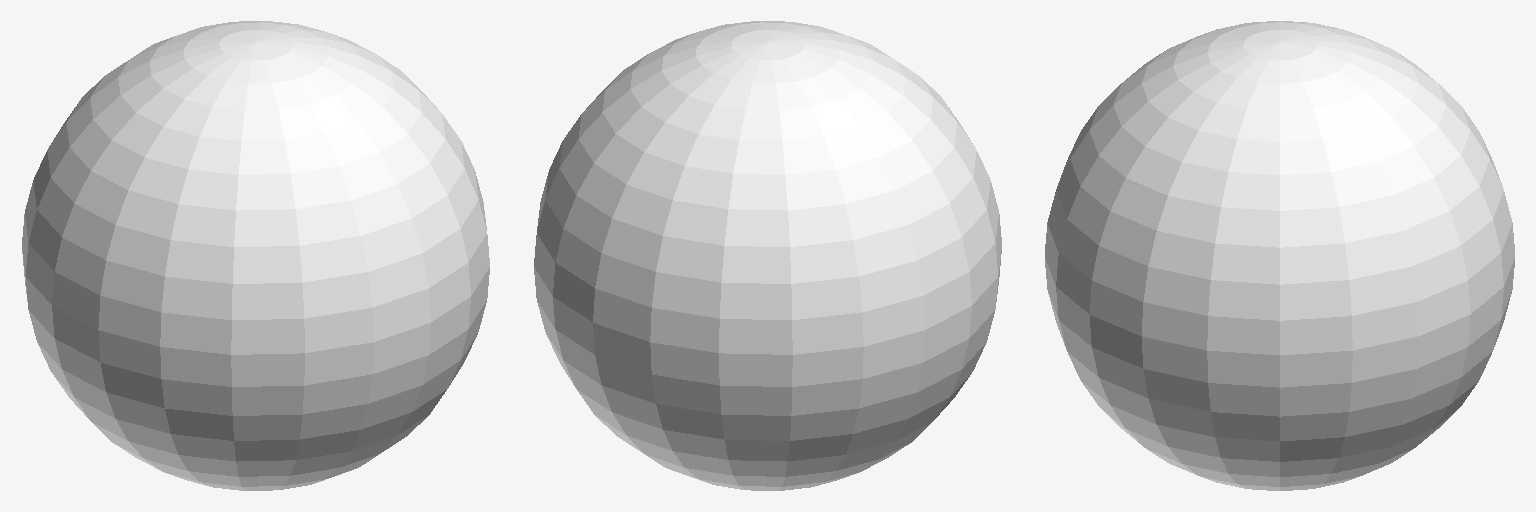
File: glossy1.obj
3 views of the same model, side by side, from view 1: azimuth 30°, elevation 25°; view 2: azimuth 150°, elevation 25°; view 3: azimuth 270°, elevation 25° (orthographic).
Parts seen in each view (by area): view 1: pSphere2; view 2: pSphere2; view 3: pSphere2.
Boxes of the visible parts, box(x1,y1,x2,y2) form: pSphere2: box(22, 21, 489, 490); pSphere2: box(534, 21, 1001, 490); pSphere2: box(1045, 21, 1514, 490).
Size of the model in its own units: 0.4476 by 0.4476 by 0.4476.